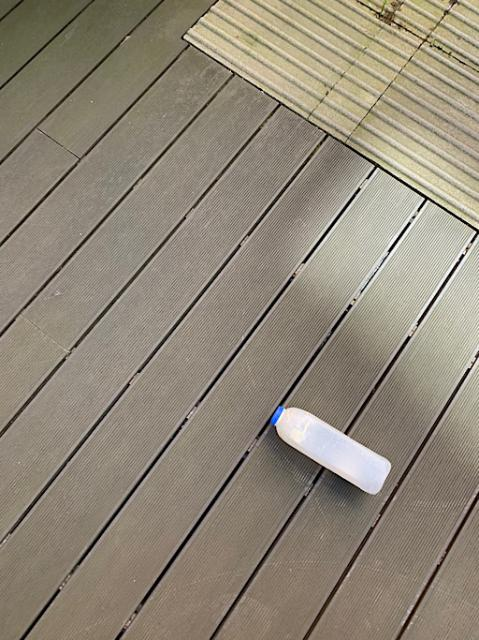plastic: (270, 405, 390, 493)
